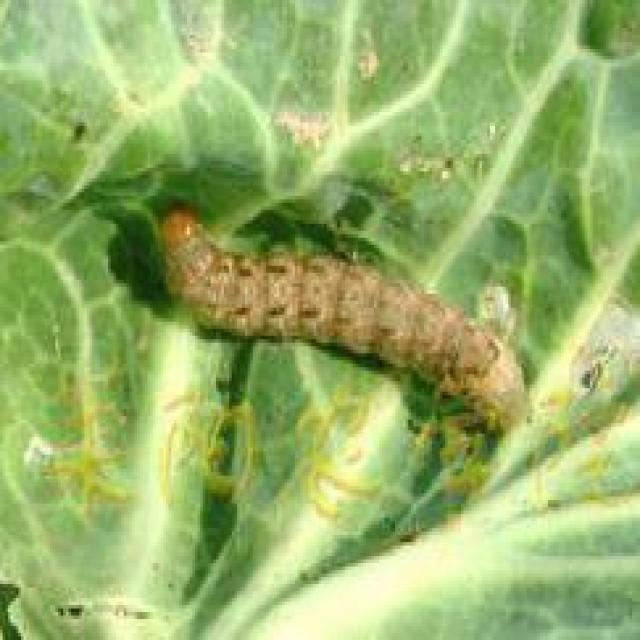armyworm: (156, 206, 541, 435)
